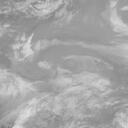cyclone: (38, 48, 94, 98)
